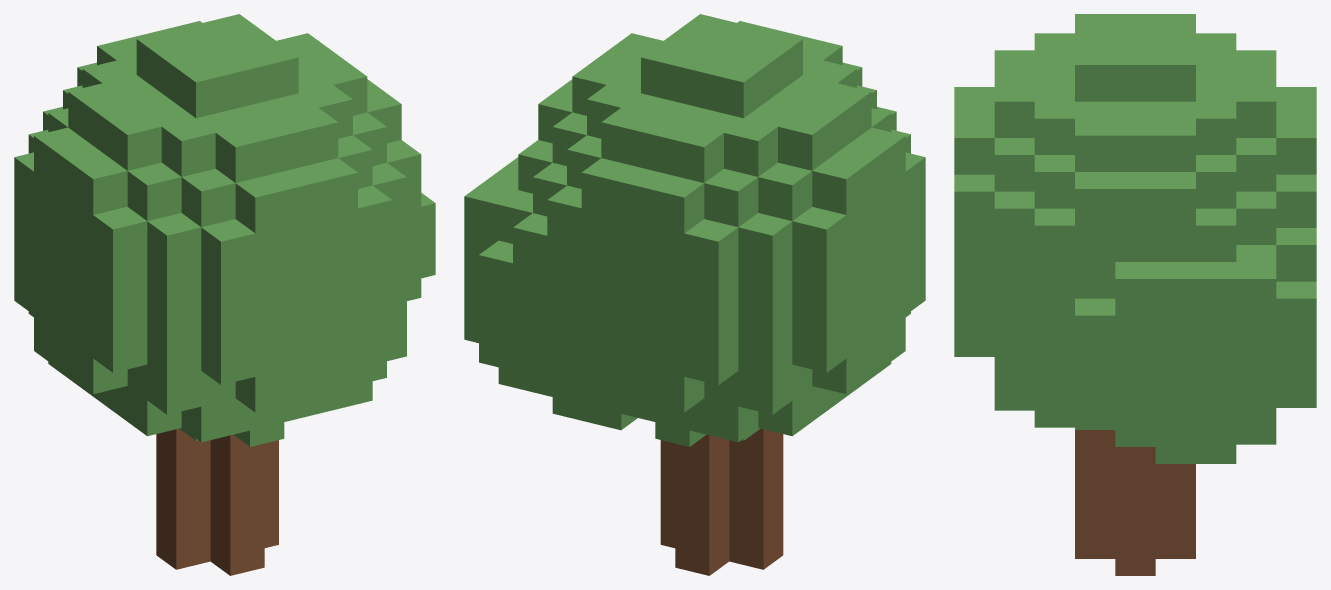
File: tree.glb
3 views of the same model, side by side, from view 1: azimuth 30°, elevation 25°; view 2: azimuth 150°, elevation 25°; view 3: azimuth 270°, elevation 25° (orthographic).
Visible parts, largest first — view 1: tree_leaf, tree_trunk; view 2: tree_leaf, tree_trunk; view 3: tree_leaf, tree_trunk.
Part boxes in pixels (x1=…): tree_leaf: x1=14, y1=14, x2=435, y2=446; tree_trunk: x1=156, y1=428, x2=278, y2=575; tree_leaf: x1=464, y1=14, x2=925, y2=446; tree_trunk: x1=660, y1=428, x2=783, y2=575; tree_leaf: x1=954, y1=14, x2=1316, y2=463; tree_trunk: x1=1075, y1=430, x2=1195, y2=575.
Size of the model in its own units: 5 by 7 by 4.5.
